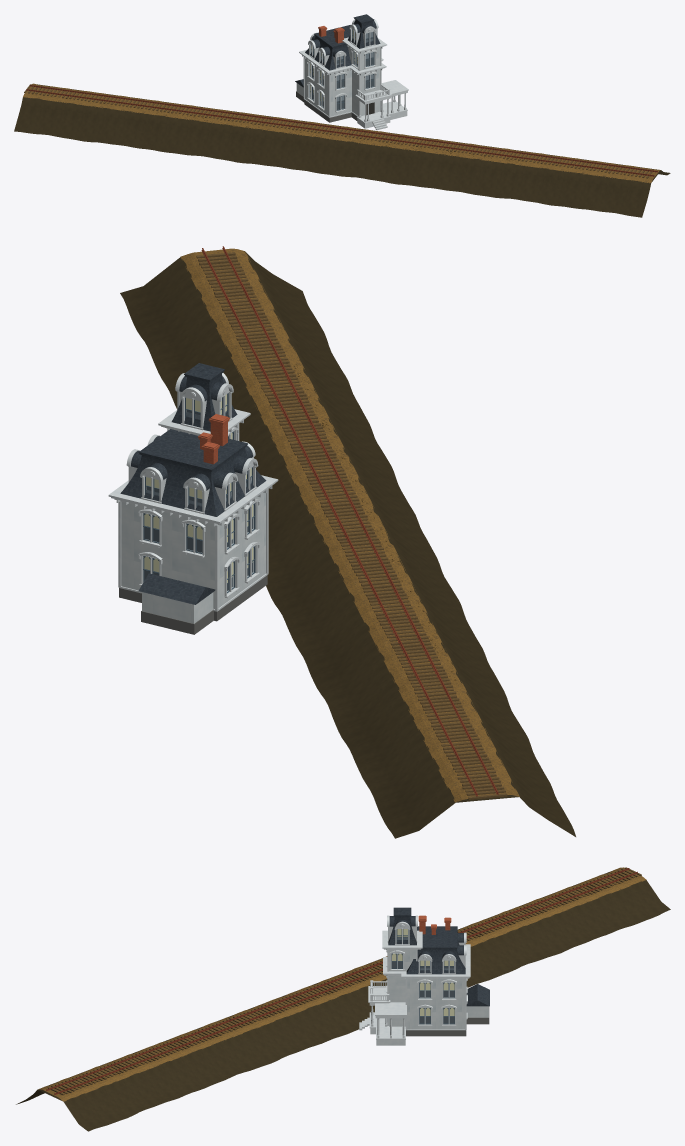
File: railroad-base-gemini-4-neon.glb
The picture shows the model from 3 angles, top to bottom: view 1: azimuth 30°, elevation 25°; view 2: azimuth 150°, elevation 25°; view 3: azimuth 270°, elevation 25°; orthographic projection. The views are drawn at different scales.
Visible parts, largest first — view 1: Railroad_Embankment_Web, Railroad_Ballast_Web, Railroad_Ties_Web, Railroad_Rails_Web, House_MainWalls_Web, House_PorchStructure_Web, House_CornerTrim_Web, Roof_MainMansard_Web, Roof_MainMansard_CurbTrim_Web, House_Foundation_Web, Roof_TowerMansard_Web; view 2: Railroad_Embankment_Web, Railroad_Ballast_Web, Railroad_Ties_Web, House_MainWalls_Web, Railroad_Rails_Web, Roof_MainMansard_Web, Roof_MainMansard_CurbTrim_Web, Cornice_MainHouse_Web, House_Foundation_Web, House_RearWingRoof_Web, House_CornerTrim_Web, Roof_TowerMansard_Web; view 3: Railroad_Embankment_Web, Railroad_Ballast_Web, Railroad_Ties_Web, House_MainWalls_Web, Railroad_Rails_Web, House_PorchStructure_Web, Roof_MainMansard_Web, Roof_MainMansard_CurbTrim_Web, House_Foundation_Web, Cornice_MainHouse_Web, House_CornerTrim_Web, House_RearWingRoof_Web (+1 smaller).
Part boxes in pixels (x1,y1,x2,y2): Railroad_Embankment_Web: (14, 84, 670, 217); Railroad_Ballast_Web: (23, 83, 660, 183); Railroad_Ties_Web: (24, 84, 653, 178); Railroad_Rails_Web: (26, 85, 657, 176); House_MainWalls_Web: (296, 46, 379, 116); House_PorchStructure_Web: (355, 80, 408, 130); House_CornerTrim_Web: (303, 47, 381, 117); Roof_MainMansard_Web: (305, 33, 351, 70); Roof_MainMansard_CurbTrim_Web: (314, 25, 350, 47); House_Foundation_Web: (296, 91, 357, 122); Roof_TowerMansard_Web: (348, 17, 380, 48); Railroad_Embankment_Web: (120, 251, 575, 838); Railroad_Ballast_Web: (180, 248, 519, 802); Railroad_Ties_Web: (196, 252, 507, 799); House_MainWalls_Web: (121, 427, 265, 623); Railroad_Rails_Web: (201, 246, 498, 796); Roof_MainMansard_Web: (120, 441, 266, 516); Roof_MainMansard_CurbTrim_Web: (138, 429, 247, 471); Cornice_MainHouse_Web: (108, 475, 278, 526); House_Foundation_Web: (119, 575, 267, 634); House_RearWingRoof_Web: (138, 573, 215, 604); House_CornerTrim_Web: (118, 423, 268, 611); Roof_TowerMansard_Web: (171, 369, 237, 431); Railroad_Embankment_Web: (16, 871, 670, 1131); Railroad_Ballast_Web: (38, 867, 646, 1101); Railroad_Ties_Web: (47, 867, 641, 1095); House_MainWalls_Web: (389, 950, 488, 1029); Railroad_Rails_Web: (46, 868, 637, 1094); House_PorchStructure_Web: (359, 980, 406, 1045); Roof_MainMansard_Web: (406, 934, 465, 974); Roof_MainMansard_CurbTrim_Web: (417, 926, 457, 948); House_Foundation_Web: (406, 1006, 489, 1036); Cornice_MainHouse_Web: (401, 944, 470, 979); House_CornerTrim_Web: (387, 950, 466, 1030); House_RearWingRoof_Web: (466, 984, 489, 1006).
Size of what is drawn, in the model's own units: 69.64 by 16.28 by 75.37.
Materials: 15 (8 with a texture image).
